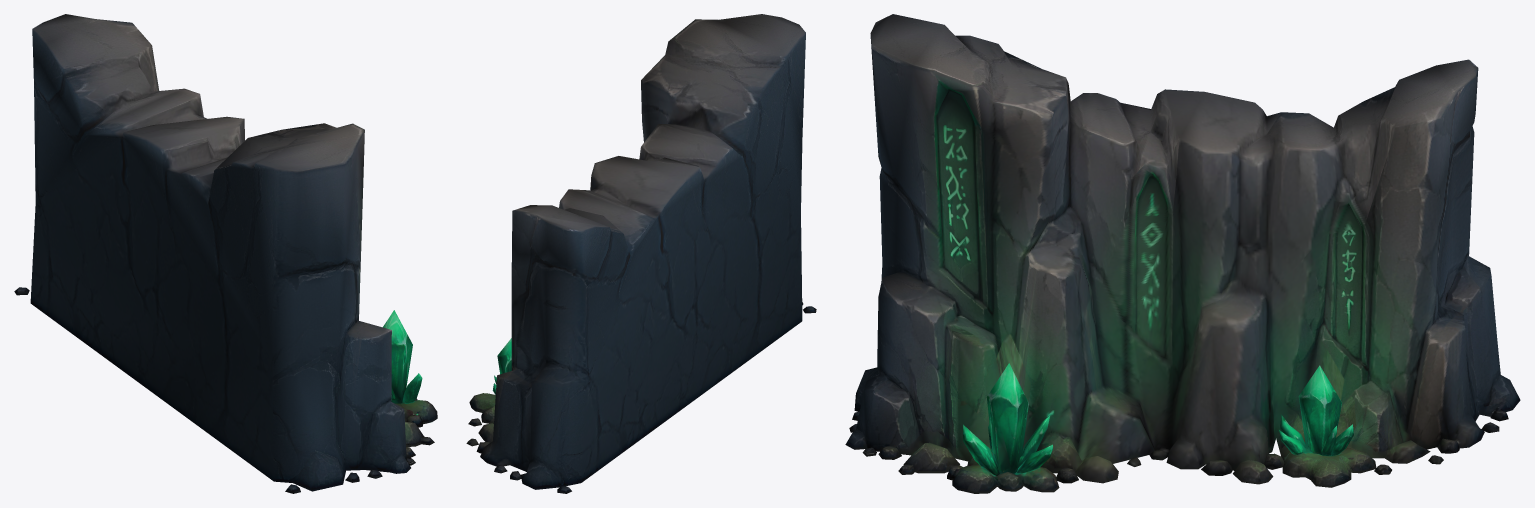
File: glowing+rune+wall+3d+model.fbx
3 renders of one model, left to right at view 1: azimuth 30°, elevation 25°; view 2: azimuth 150°, elevation 25°; view 3: azimuth 270°, elevation 25°, orthographic. The views are drawn at different scales.
Visible parts, largest first — view 1: meshes[0]; view 2: meshes[0]; view 3: meshes[0].
Part boxes in pixels (x1,y1,x2,y2): meshes[0]: (14,14,437,493); meshes[0]: (466,14,816,493); meshes[0]: (845,14,1520,493).
Size of the model in its own units: 0.3926 by 0.6074 by 0.998.
